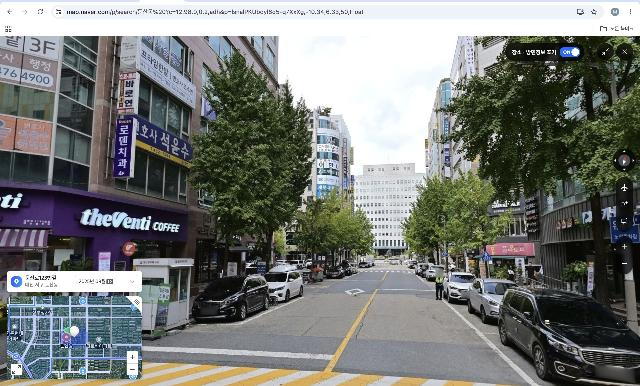other: (448, 36, 640, 323), (186, 45, 314, 270), (401, 169, 481, 274), (428, 169, 501, 270), (299, 185, 347, 266), (338, 205, 378, 266)
